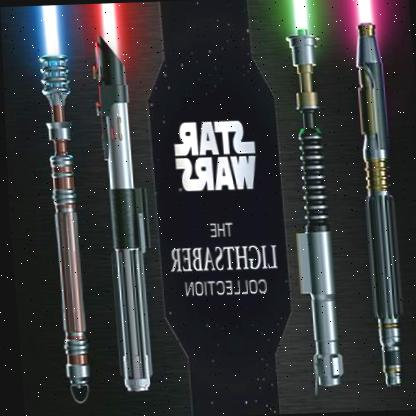lightsaber: (265, 0, 354, 401), (28, 5, 101, 406), (89, 6, 162, 398), (348, 0, 411, 396)
